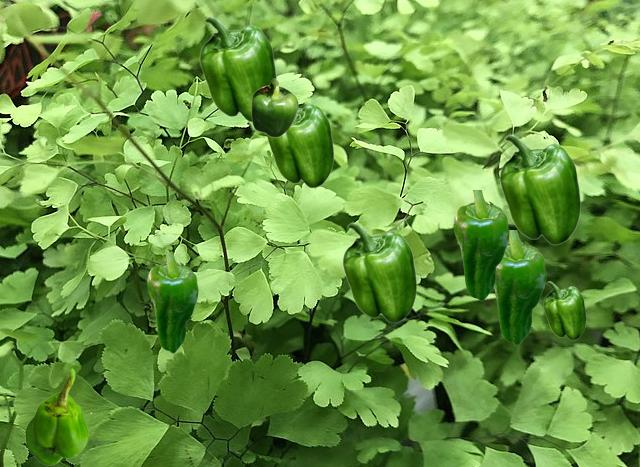bell_pepper: (499, 134, 580, 244), (199, 16, 276, 121), (342, 222, 416, 322), (453, 190, 508, 300), (25, 368, 87, 464), (494, 230, 545, 344), (266, 103, 333, 187), (147, 252, 197, 352), (251, 78, 297, 136), (543, 281, 585, 339)
